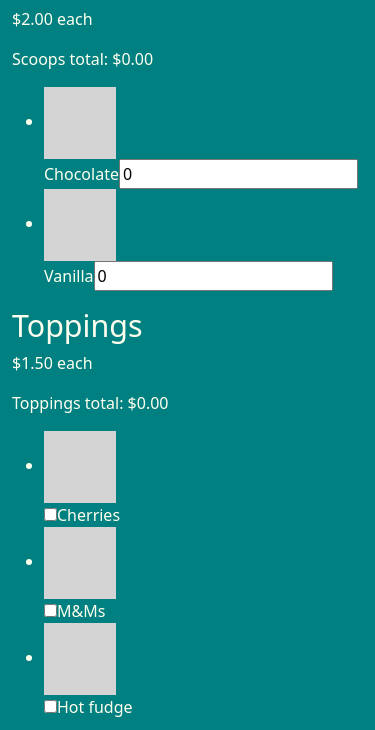
Scenario: Grand total › update grand total on toppings change
Click the checkbox labelled "Cherries" at (50, 514), box 44,508 -> 57,521
(page scrolled)
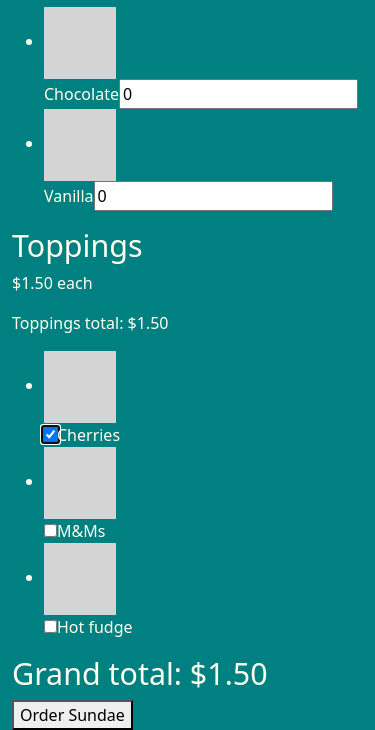
Check: the heading "Grand total: $1.50" is shown, box 12,652 -> 268,694
